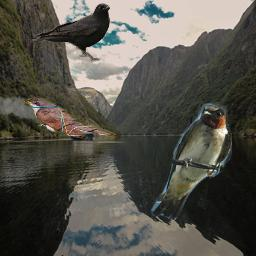Crow: (30, 3, 110, 61)
Cuckoo: (21, 95, 120, 143)
Swallow: (150, 103, 232, 220)
